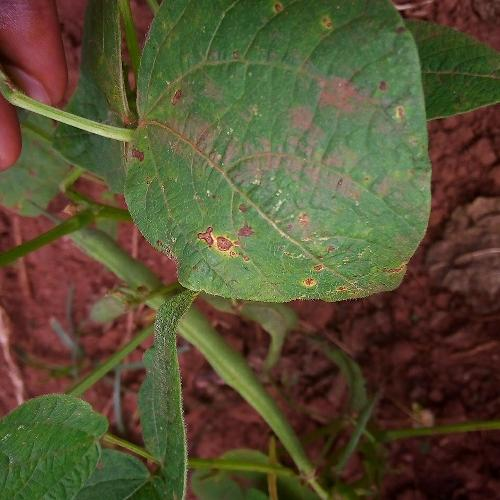hawar: (259, 47, 417, 182), (296, 213, 362, 298), (183, 216, 256, 264), (125, 129, 157, 168), (171, 75, 190, 117)
